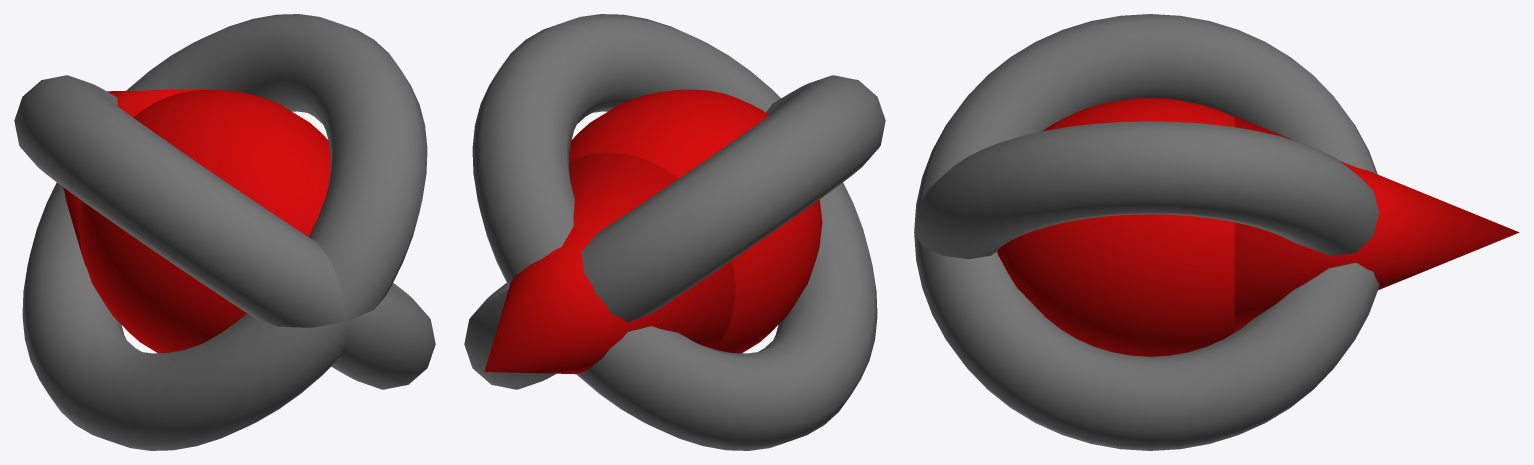
The model's file is Obstacle2.fbx.
3 views of the same model, side by side, from view 1: azimuth 30°, elevation 25°; view 2: azimuth 150°, elevation 25°; view 3: azimuth 270°, elevation 25° (orthographic). The views are drawn at different scales.
Parts seen in each view (by area): view 1: Torus.004, Torus.000, Sphere, Cone; view 2: Torus.004, Torus.000, Cone, Sphere; view 3: Torus.000, Torus.004, Sphere, Cone.
Boxes of the visible parts, x1,y1,x2,y2 form: Torus.004: (22,14,427,450); Torus.000: (14,75,435,389); Sphere: (78,89,330,353); Cone: (63,89,209,266); Torus.004: (472,14,877,450); Torus.000: (464,75,885,389); Cone: (484,152,735,374); Sphere: (569,89,822,353); Torus.000: (914,14,1379,450); Torus.004: (914,121,1379,259); Sphere: (997,98,1234,356); Cone: (1234,116,1519,332).
Size of the model in its own units: 284 by 267 by 450.
